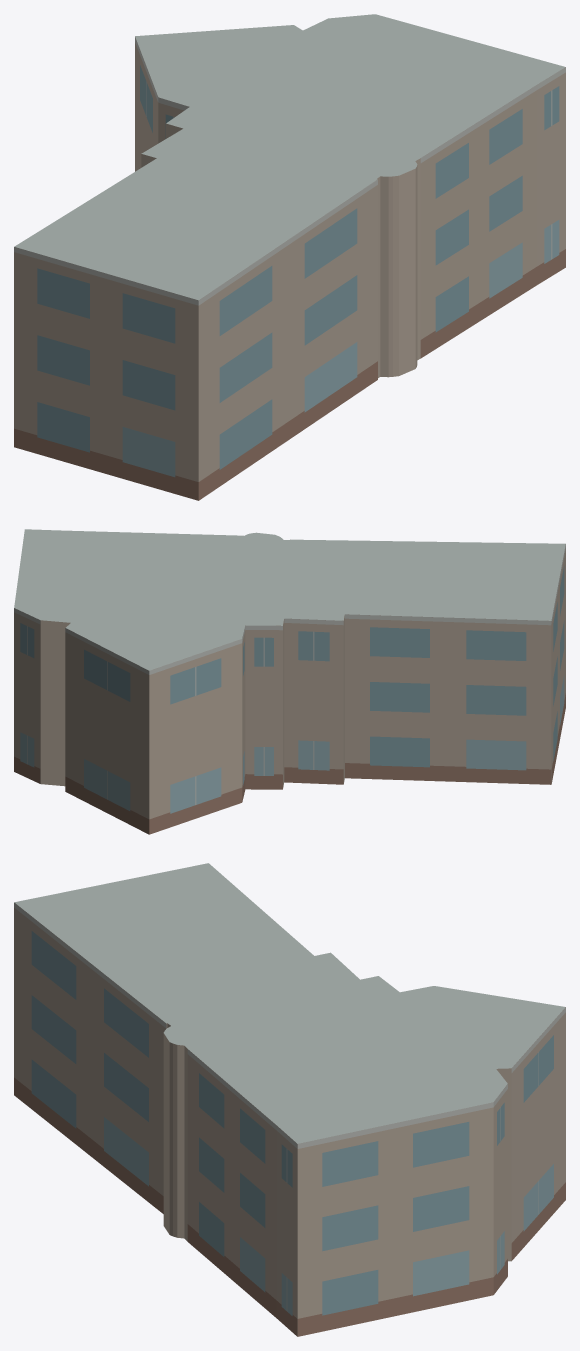
File: survey-upis-33027413.glb
3 views of the same model, one above another, from view 1: azimuth 30°, elevation 25°; view 2: azimuth 150°, elevation 25°; view 3: azimuth 270°, elevation 25° (orthographic). The views are drawn at different scales.
Visible parts, largest first — view 1: survey-upis-33027413.tmp; view 2: survey-upis-33027413.tmp; view 3: survey-upis-33027413.tmp.
Boxes of the visible parts, x1,y1,x2,y2 form: survey-upis-33027413.tmp: [14, 14, 565, 500]; survey-upis-33027413.tmp: [14, 529, 565, 834]; survey-upis-33027413.tmp: [14, 863, 565, 1336].
Bounding box in the file's own units: 28.57 × 9.15 × 23.72.
